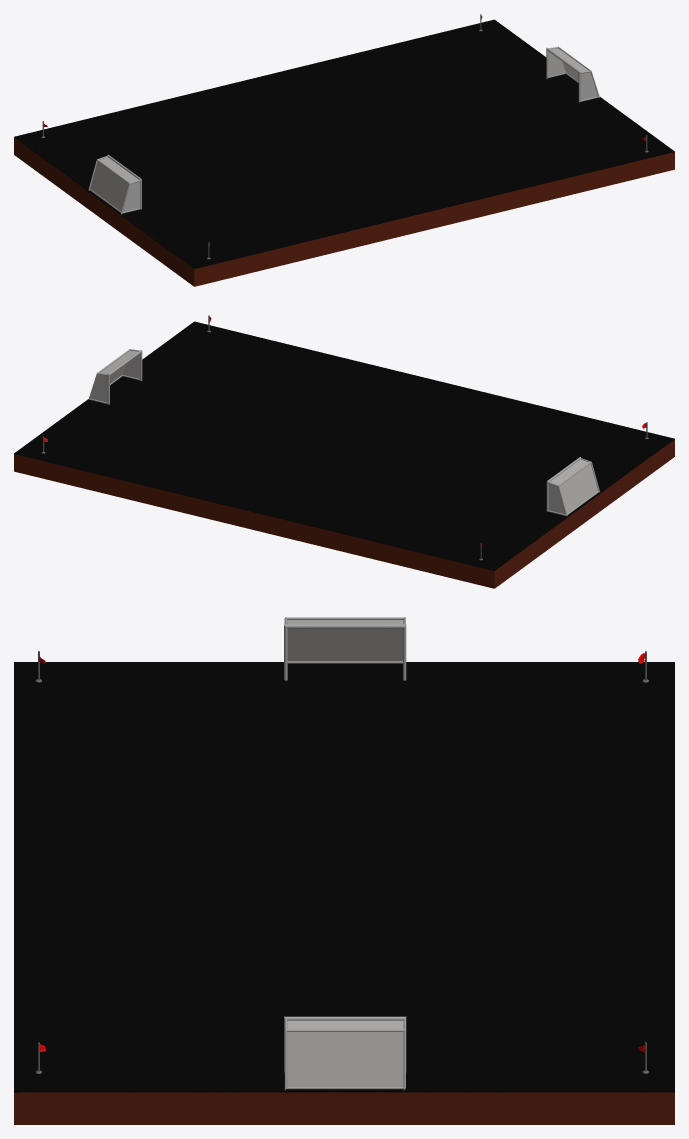
Rendered from soccer fbx.fbx.
3 views of the same model, one above another, from view 1: azimuth 30°, elevation 25°; view 2: azimuth 150°, elevation 25°; view 3: azimuth 270°, elevation 25° (orthographic). The views are drawn at different scales.
Parts seen in each view (by area): view 1: Box001, Box002, Plane08; view 2: Box001, Box002, Plane08; view 3: Box001, Box002, Plane022, Plane08, Plane023.
Part boxes in pixels (x1,y1,x2,y2): Box001: (14,19,674,268); Box002: (14,137,674,286); Plane08: (90,161,128,211); Box001: (14,321,674,570); Box002: (14,439,674,588); Plane08: (559,463,597,513); Box001: (14,662,674,1092); Box002: (14,1092,674,1124); Plane022: (287,1032,403,1086); Plane08: (287,628,402,661); Plane023: (287,1020,403,1029).
Bounding box in the file's own units: 13.59 × 1.32 × 8.84.
